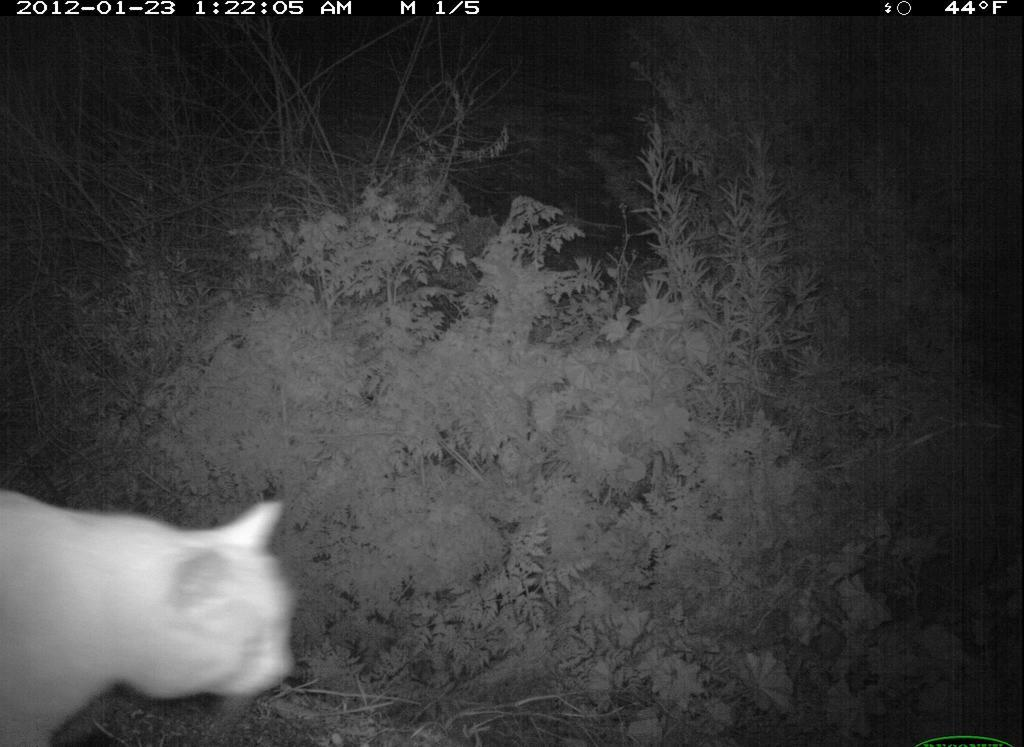cat: (2, 483, 317, 747)
